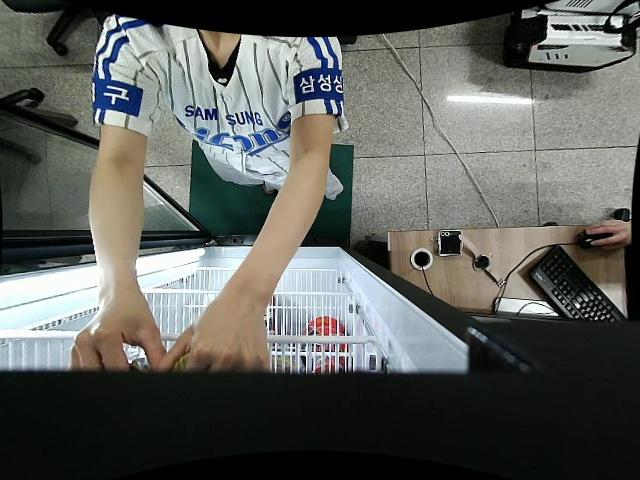00_hand: (65, 301, 167, 370), (171, 311, 273, 377)
